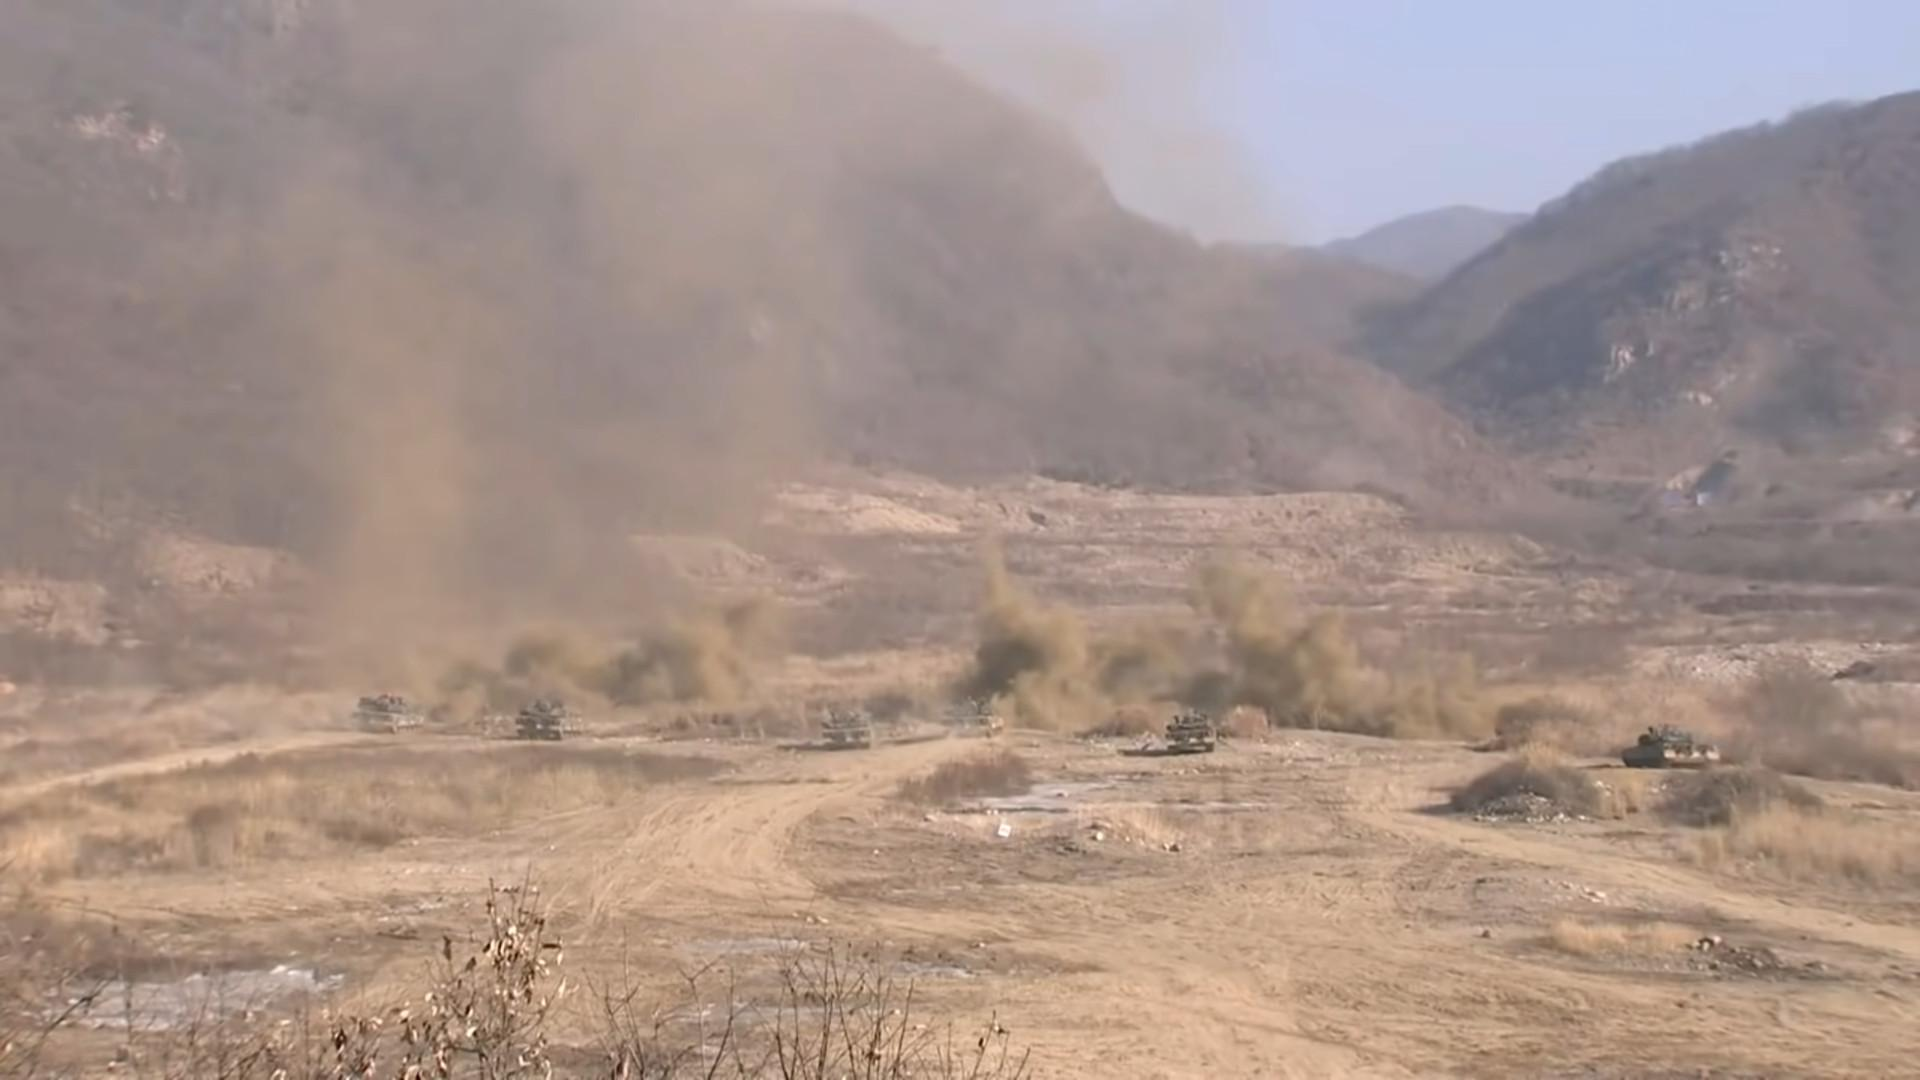tank: (1621, 724, 1722, 770), (347, 694, 426, 735), (514, 694, 584, 740), (942, 696, 1006, 737), (1166, 708, 1215, 752), (822, 712, 873, 749)
